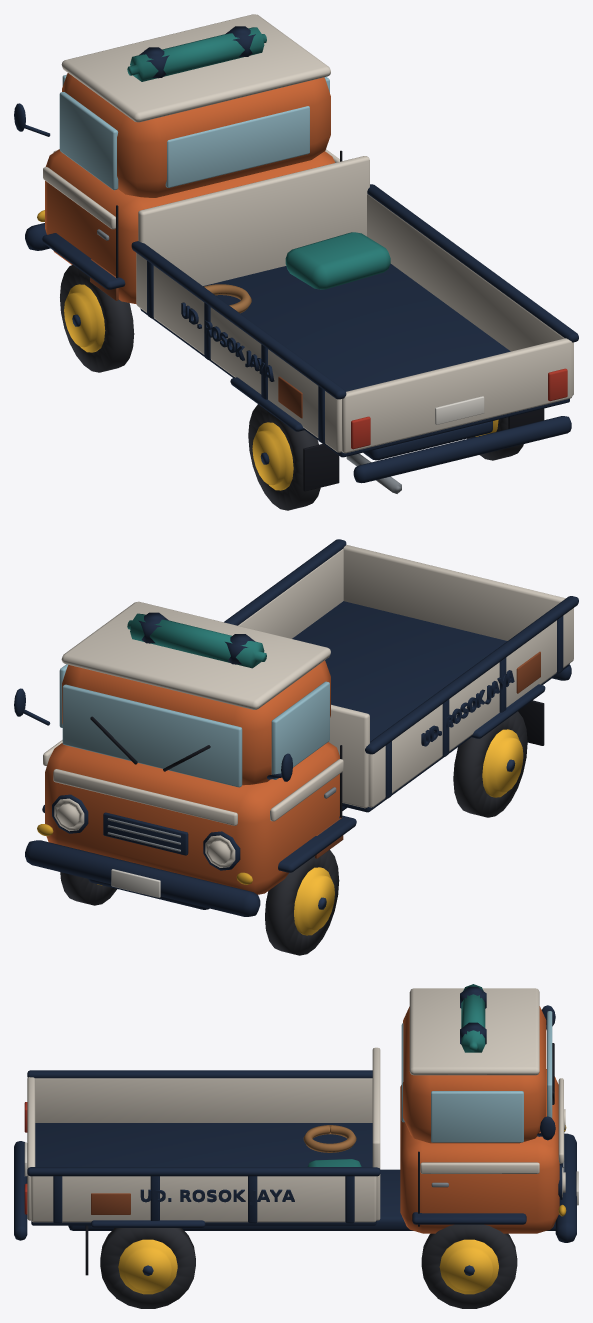
Rendered from PikapKartun.fbx.
3 views of the same model, one above another, from view 1: azimuth 30°, elevation 25°; view 2: azimuth 150°, elevation 25°; view 3: azimuth 270°, elevation 25° (orthographic). The views are drawn at different scales.
Visible parts, largest first — view 1: Body, Wheel_FL, Wheel_RL; view 2: Body, Wheel_FL, Wheel_RL, Wheel_FR; view 3: Body, Wheel_FR, Wheel_RR.
Part boxes in pixels (x1,y1,x2,y2): Body: [14, 14, 578, 493]; Wheel_FL: [60, 265, 134, 372]; Wheel_RL: [248, 404, 320, 510]; Body: [14, 539, 578, 916]; Wheel_FL: [265, 850, 339, 955]; Wheel_RL: [453, 711, 527, 817]; Wheel_FR: [60, 872, 117, 905]; Body: [14, 984, 578, 1275]; Wheel_FR: [421, 1224, 517, 1308]; Wheel_RR: [100, 1228, 195, 1308].
Size of the model in its own units: 2.04 by 2.12 by 4.26.
